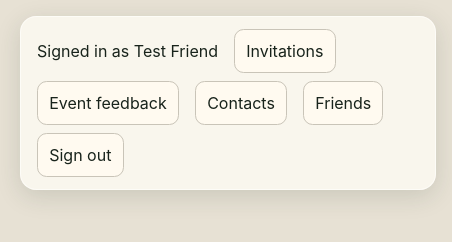
Test: account controls › preserves signed-in state when logout fails
The image size is (452, 242).
Click the button "Sign out" at (80, 155), box 37,133 -> 124,177
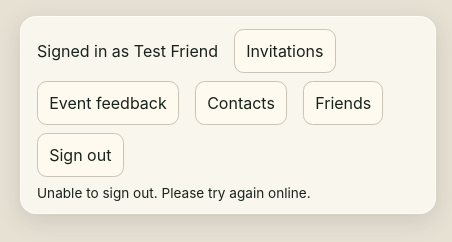
expect the text "Signed in as Test Friend" is shown: met, box 37,41 -> 218,61
expect the text "Unable to sign out. Please try again online." is shown: met, box 37,185 -> 311,201
